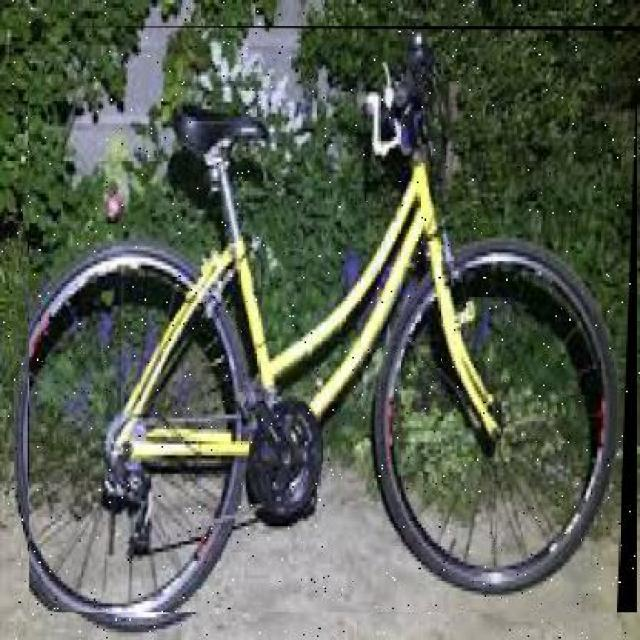bicycle: (31, 27, 640, 615)
